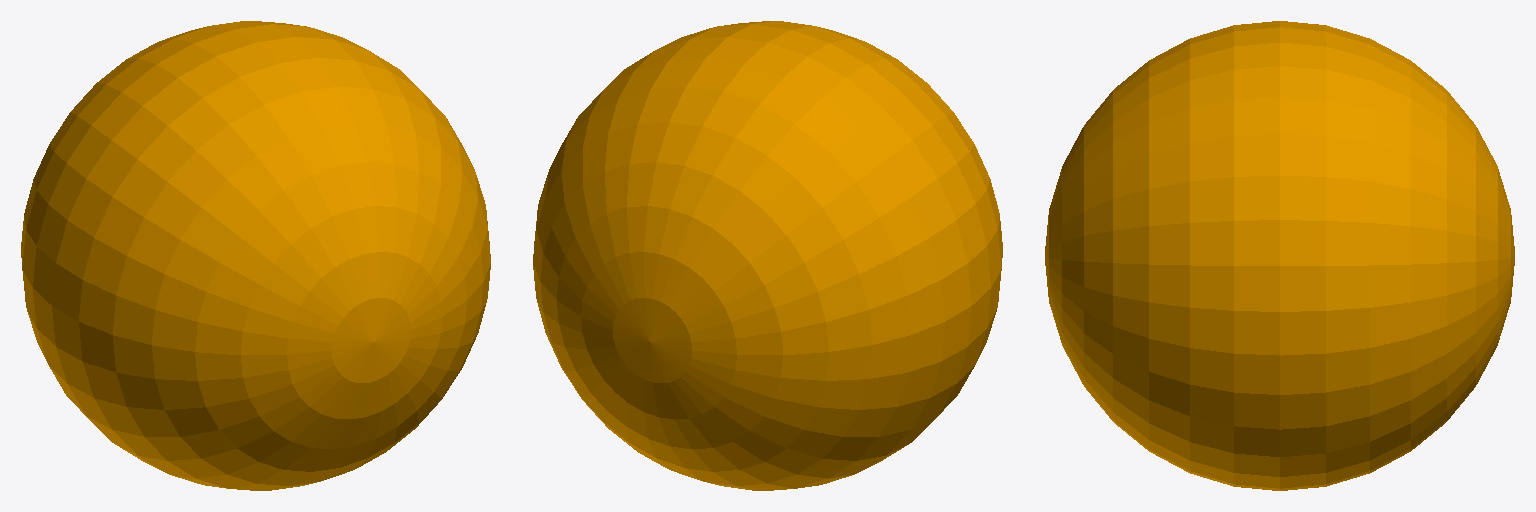
robot.urdf — object:
<?xml version="1.0"?>
<robot name="object">
<!-- The OBJ file was created in Blender with a Image Texture. -->
<!-- intended to approximate a gacha ball -->
  <link name="object">
    <visual>
      <origin xyz="0 0 0"/>
      <geometry>
        <mesh filename="sphere.obj" scale=".036 .036 .036"/>
      </geometry>
    </visual>
    <collision>
      <origin xyz="0 0 0"/>
      <geometry>
        <sphere radius="0.036"/>
      </geometry>
    </collision>
    <inertial>
      <!-- make total weight of sphere 58 grams, about the same as a tennis ball -->
      <density value="352.0"/>
    </inertial>
  </link>
</robot>

--- Render facts (derived) ---
3 views of the same robot in one strip: view 1: azimuth 30°, elevation 25°; view 2: azimuth 150°, elevation 25°; view 3: azimuth 270°, elevation 25° (orthographic).
Robot: object — 1 links, 0 joints (none); root link object; default pose: every joint at zero.
Links seen in each view (by area): view 1: object; view 2: object; view 3: object.
Boxes of the visible links, box(x1,y1,x2,y2) form: object: box(21, 21, 490, 490); object: box(533, 21, 1002, 490); object: box(1045, 21, 1514, 490).
Size in the robot's own frame: 0.072 by 0.072 by 0.072 metres.
1 mesh visuals loaded from 1 distinct referenced files (1 OBJ).